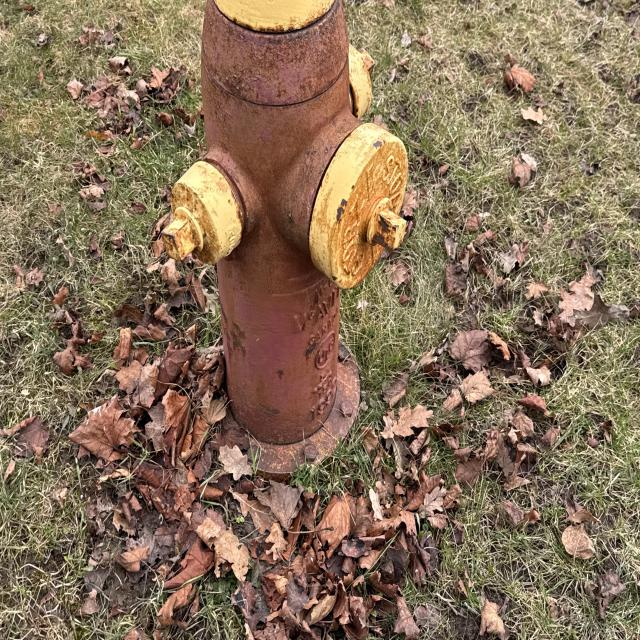Fire hydrant: (154, 0, 413, 484)
